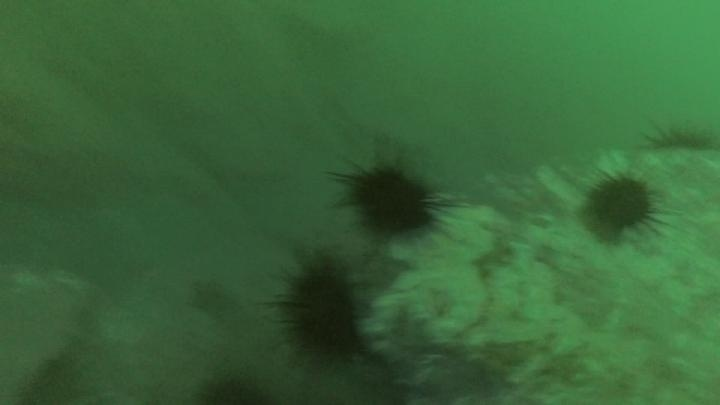echinus: (270, 255, 368, 366), (336, 155, 447, 242), (581, 170, 662, 242), (637, 116, 718, 156), (194, 368, 275, 405)
starfish: (189, 277, 236, 318)
